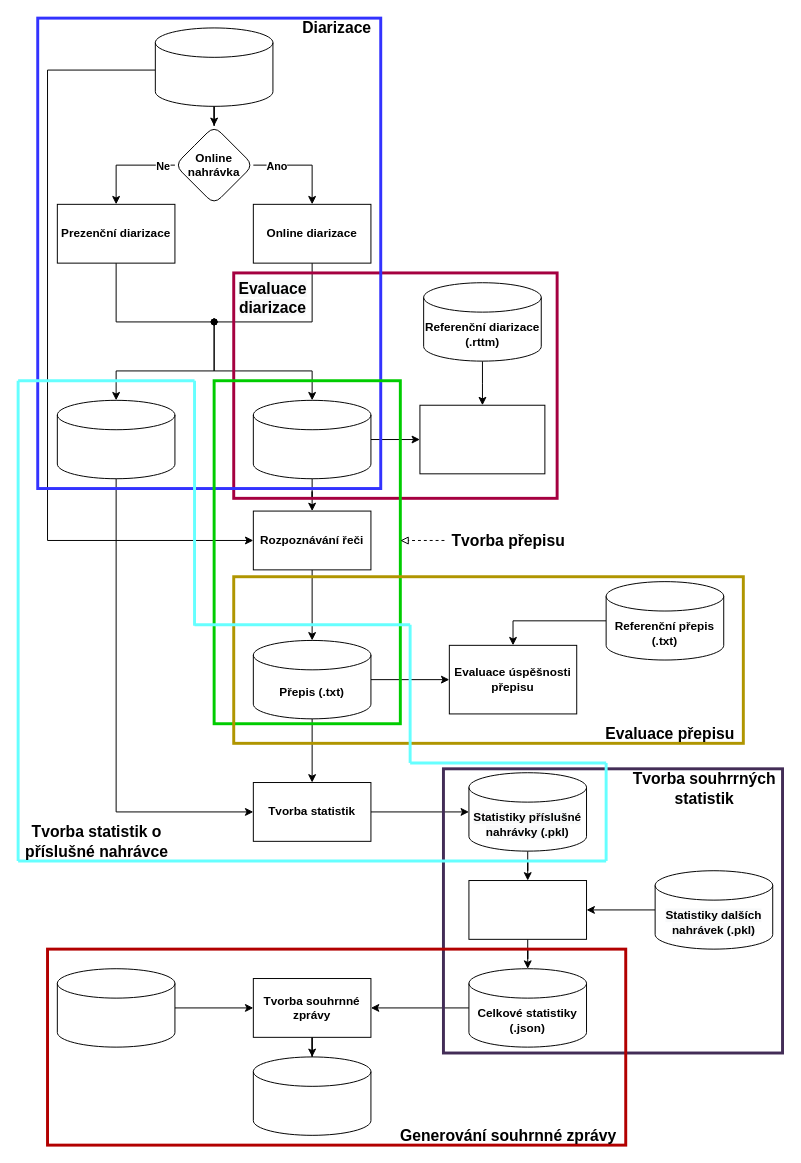
The diagram is 801 pixels wide and 1163 high, and some of its shapes have lost their labels. The centre of each missing label's shape, as x and y in pixels:
"Energie segmentů (.energy)" goes at (115,439).
"Evaluace úspěšnosti diarizace / detekce řečové aktivity" goes at (482,439).
"Kalkulace celkových statistk" goes at (527,909).
"Nahrávka sezení (.wav)" goes at (213,66).
"Souhrnná zpráva (.html)" goes at (311,1095).
"Výstup diarizace (.rttm)" goes at (311,439).
"Šablona (.html), textace (.json)" goes at (115,1007).
